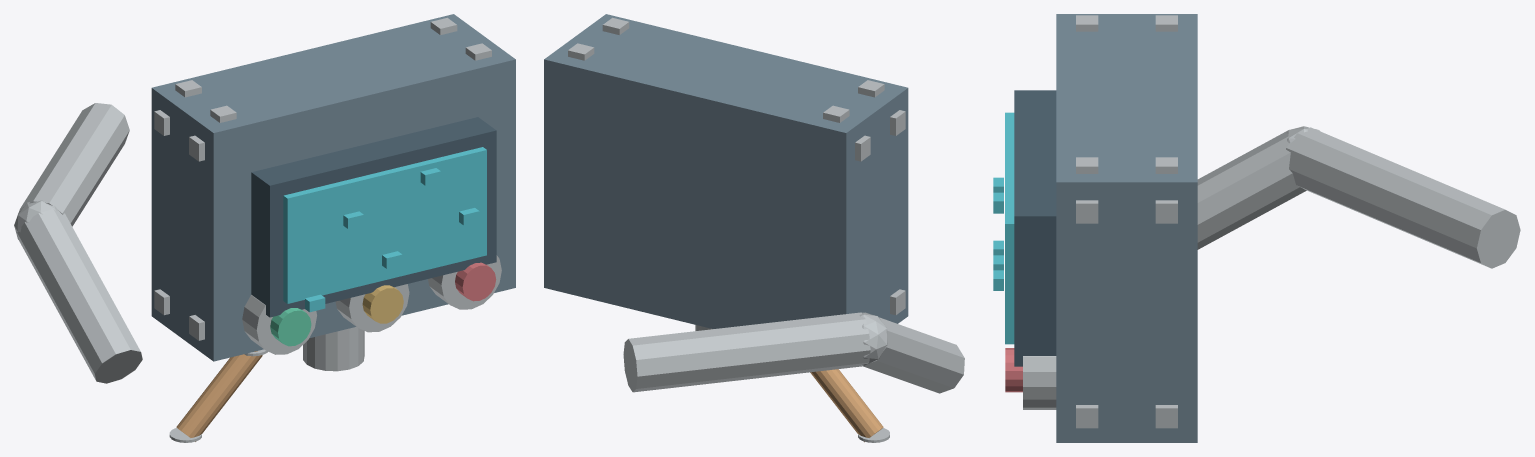
The model's file is 21_L77_BulkPadWearMeasurementProbe.glb.
3 views of the same model, side by side, from view 1: azimuth 30°, elevation 25°; view 2: azimuth 150°, elevation 25°; view 3: azimuth 270°, elevation 25° (orthographic). The views are drawn at different scales.
Visible parts, largest first — view 1: BulkPadWearMeasurementProbe_Node_0000, BulkPadWearMeasurementProbe_Node_0010, BulkPadWearMeasurementProbe_Node_0009, BulkPadWearMeasurementProbe_Node_0027, BulkPadWearMeasurementProbe_Node_0026, BulkPadWearMeasurementProbe_Node_0023, BulkPadWearMeasurementProbe_Node_0022, BulkPadWearMeasurementProbe_Node_0016, BulkPadWearMeasurementProbe_Node_0020, BulkPadWearMeasurementProbe_Node_0019, BulkPadWearMeasurementProbe_Node_0018, BulkPadWearMeasurementProbe_Node_0017 (+2 smaller); view 2: BulkPadWearMeasurementProbe_Node_0000, BulkPadWearMeasurementProbe_Node_0026, BulkPadWearMeasurementProbe_Node_0027, BulkPadWearMeasurementProbe_Node_0023, BulkPadWearMeasurementProbe_Node_0028; view 3: BulkPadWearMeasurementProbe_Node_0000, BulkPadWearMeasurementProbe_Node_0026, BulkPadWearMeasurementProbe_Node_0009, BulkPadWearMeasurementProbe_Node_0027, BulkPadWearMeasurementProbe_Node_0010, BulkPadWearMeasurementProbe_Node_0020, BulkPadWearMeasurementProbe_Node_0021, BulkPadWearMeasurementProbe_Node_0003, BulkPadWearMeasurementProbe_Node_0004, BulkPadWearMeasurementProbe_Node_0001, BulkPadWearMeasurementProbe_Node_0002.
Boxes of the visible parts, <box> form: BulkPadWearMeasurementProbe_Node_0000: <box>151,14,515,361</box>; BulkPadWearMeasurementProbe_Node_0010: <box>283,147,486,303</box>; BulkPadWearMeasurementProbe_Node_0009: <box>251,117,496,317</box>; BulkPadWearMeasurementProbe_Node_0027: <box>17,209,142,383</box>; BulkPadWearMeasurementProbe_Node_0026: <box>18,103,129,226</box>; BulkPadWearMeasurementProbe_Node_0023: <box>176,351,262,441</box>; BulkPadWearMeasurementProbe_Node_0022: <box>303,327,364,371</box>; BulkPadWearMeasurementProbe_Node_0016: <box>242,295,316,354</box>; BulkPadWearMeasurementProbe_Node_0020: <box>428,255,501,309</box>; BulkPadWearMeasurementProbe_Node_0019: <box>362,285,403,323</box>; BulkPadWearMeasurementProbe_Node_0018: <box>335,284,409,332</box>; BulkPadWearMeasurementProbe_Node_0017: <box>270,308,311,346</box>; BulkPadWearMeasurementProbe_Node_0000: <box>544,14,908,328</box>; BulkPadWearMeasurementProbe_Node_0026: <box>623,312,870,392</box>; BulkPadWearMeasurementProbe_Node_0027: <box>861,312,964,393</box>; BulkPadWearMeasurementProbe_Node_0023: <box>810,369,883,442</box>; BulkPadWearMeasurementProbe_Node_0028: <box>859,312,887,365</box>; BulkPadWearMeasurementProbe_Node_0000: <box>1056,14,1197,442</box>; BulkPadWearMeasurementProbe_Node_0026: <box>1286,127,1520,268</box>; BulkPadWearMeasurementProbe_Node_0009: <box>1014,90,1056,366</box>; BulkPadWearMeasurementProbe_Node_0027: <box>1197,129,1306,249</box>; BulkPadWearMeasurementProbe_Node_0010: <box>1005,112,1014,344</box>; BulkPadWearMeasurementProbe_Node_0020: <box>1023,356,1056,409</box>; BulkPadWearMeasurementProbe_Node_0021: <box>1005,348,1022,392</box>; BulkPadWearMeasurementProbe_Node_0003: <box>1155,200,1177,223</box>; BulkPadWearMeasurementProbe_Node_0004: <box>1076,200,1098,223</box>; BulkPadWearMeasurementProbe_Node_0001: <box>1155,405,1177,428</box>; BulkPadWearMeasurementProbe_Node_0002: <box>1076,405,1098,428</box>.
Bounding box in the file's own units: 0.589 × 0.4828 × 0.5957.
